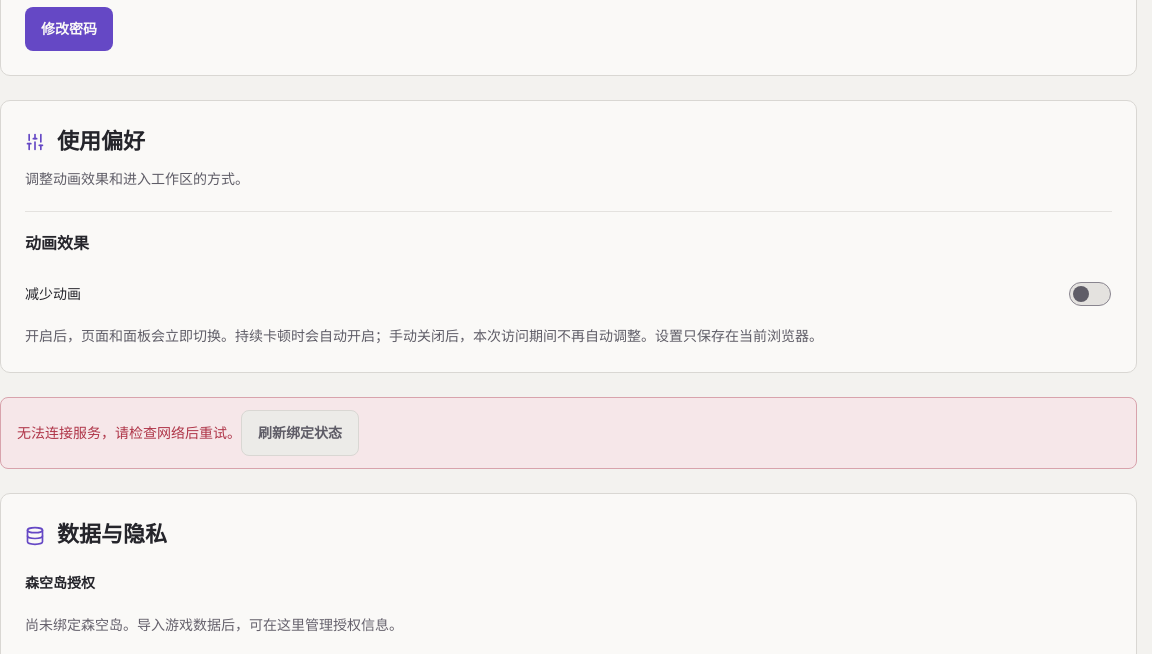
keeps the preference usable and reports failed persistence when browser storage is blocked
The image size is (1152, 654).
(page scrolled)
Click the switch labelled "减少动画". click: (1090, 294)
box: [1068, 272, 1112, 316]
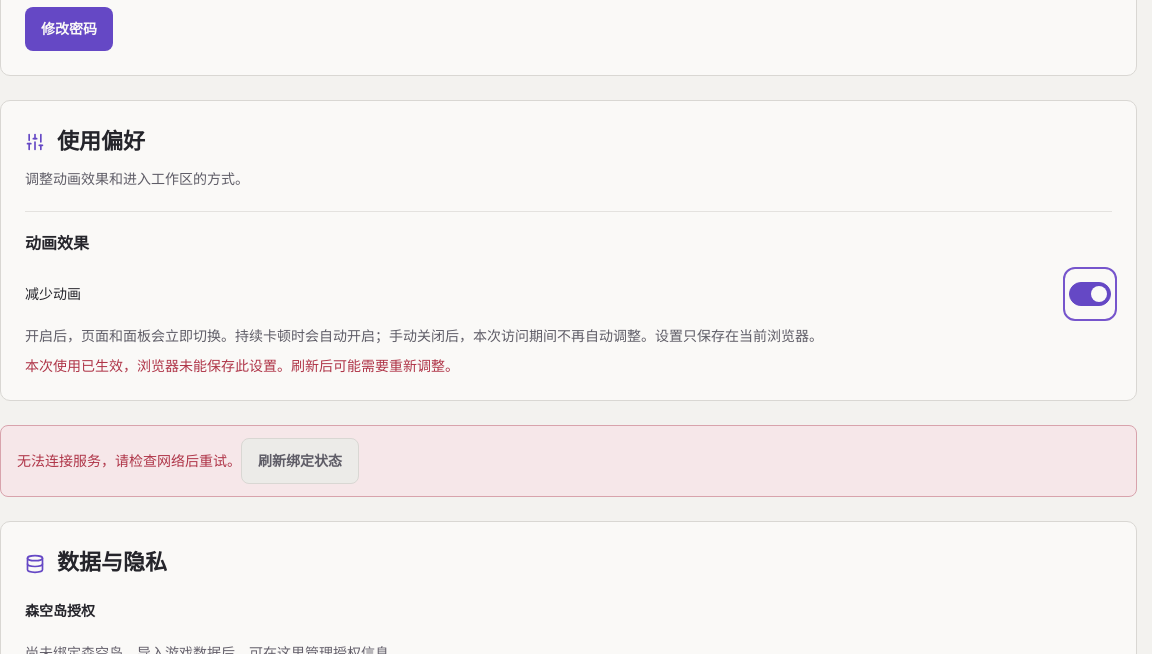
Click the switch labelled "减少动画". click: (1090, 294)
box: [1068, 272, 1112, 316]
(page scrolled)
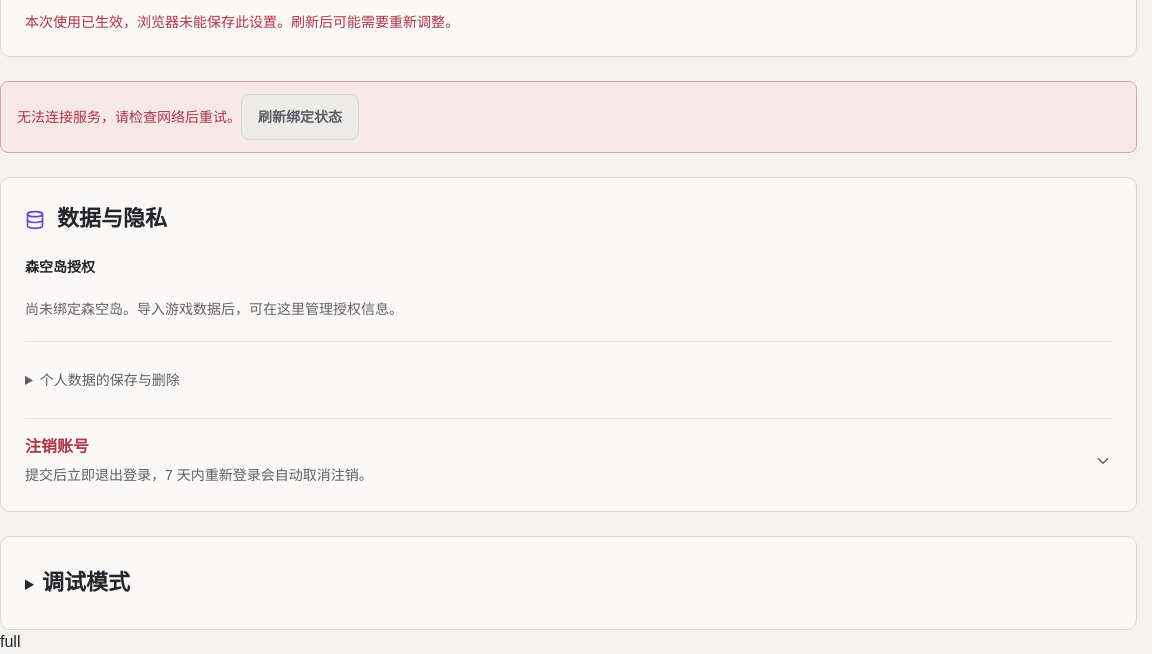
Expected: the text named "motion mode" reads "full", [0, 633, 20, 650]
